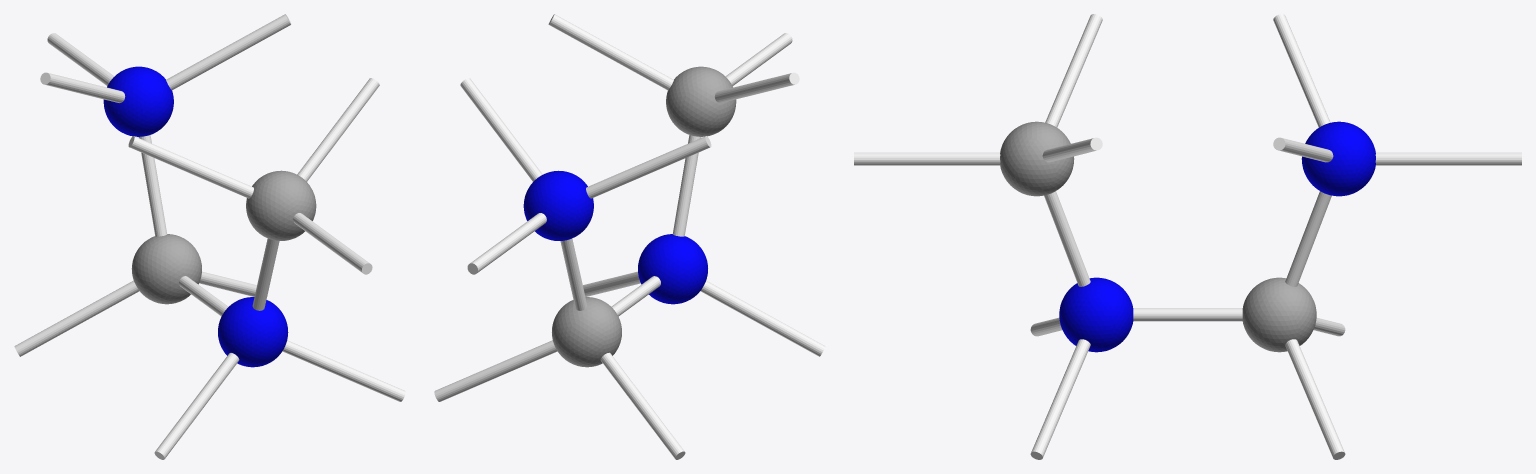
Rendered from structure_mpstyle.glb.
3 renders of one model, left to right at view 1: azimuth 30°, elevation 25°; view 2: azimuth 150°, elevation 25°; view 3: azimuth 270°, elevation 25°, orthographic. The views are drawn at different scales.
Parts seen in each view (by area): view 1: world; view 2: world; view 3: world.
Boxes of the visible parts, x1,y1,x2,y2 form: world: (14,14,405,459); world: (434,14,825,459); world: (854,14,1521,459).
Size of the model in its own units: 3.27 by 3.81 by 7.15.
